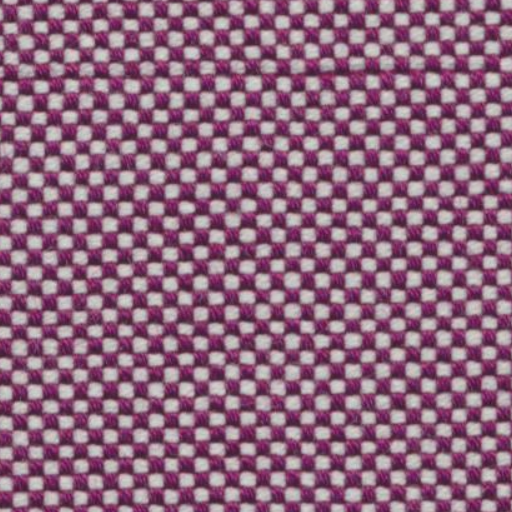TuoSha: (8, 43, 496, 96)
